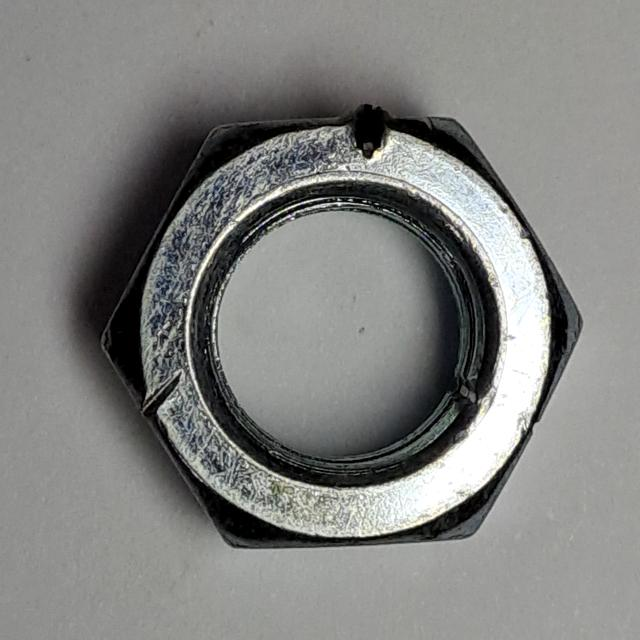Scratches: (89, 89, 600, 562)
